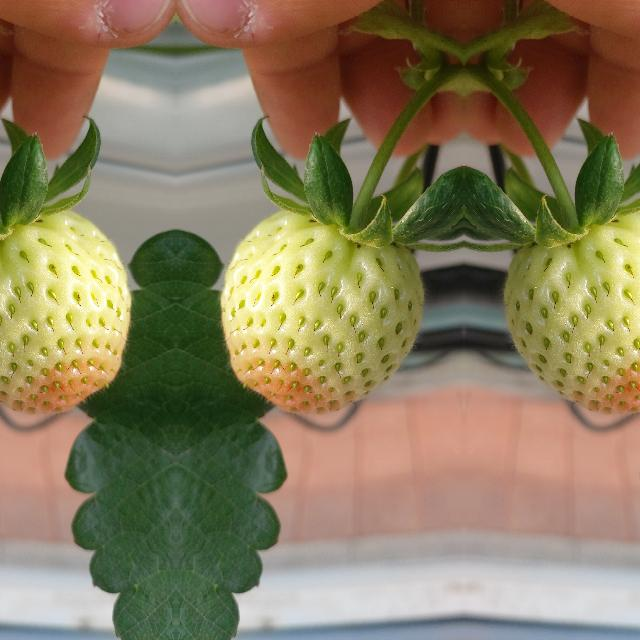Health_50: (219, 210, 421, 414), (505, 210, 640, 413), (0, 210, 131, 413)
